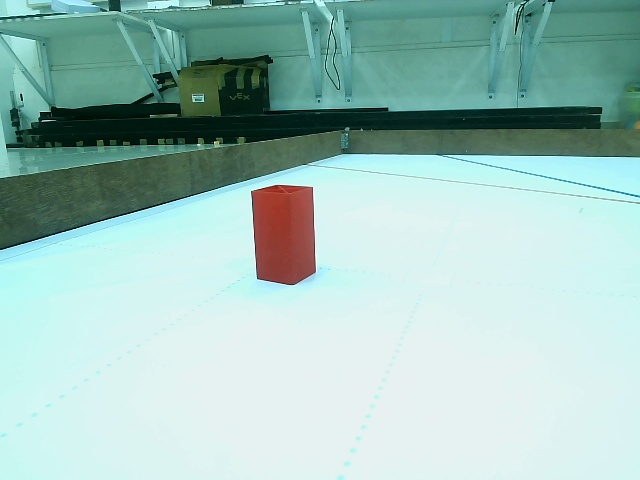red: (253, 190, 317, 281)
